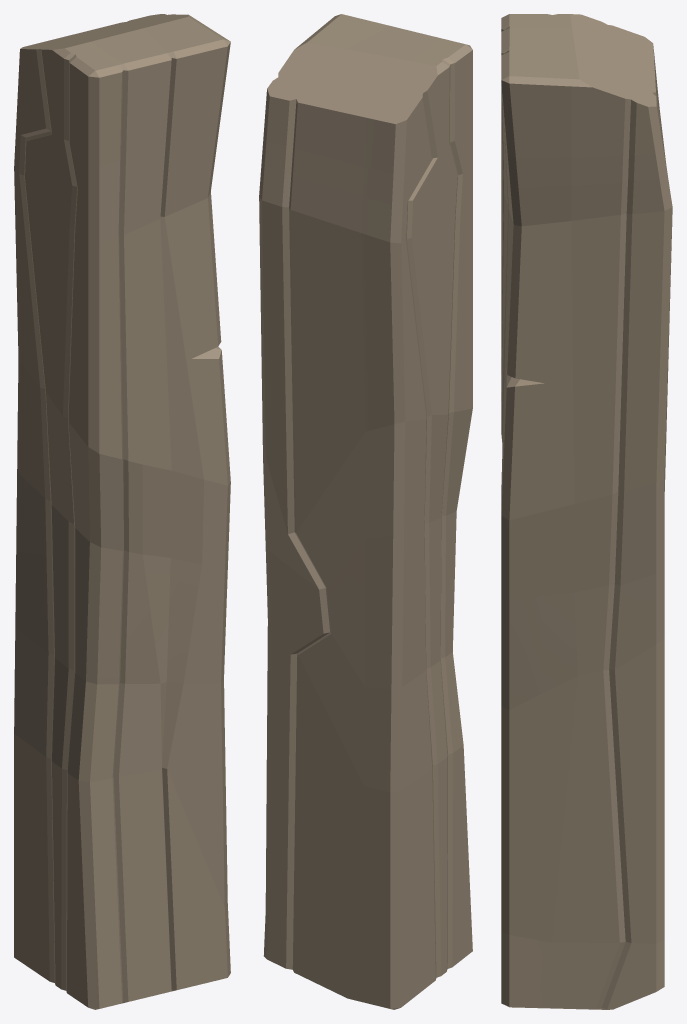
File: fence_post.fbx
The picture shows the model from 3 angles, left to right: view 1: azimuth 30°, elevation 25°; view 2: azimuth 150°, elevation 25°; view 3: azimuth 270°, elevation 25°; orthographic projection. The views are drawn at different scales.
Visible parts, largest first — view 1: poutre10; view 2: poutre10; view 3: poutre10.
Part boxes in pixels (x1,y1,x2,y2): poutre10: (14,14,230,1009); poutre10: (259,14,472,1009); poutre10: (501,14,672,1009).
Size of the model in its own units: 2.38 by 15.06 by 2.5.
